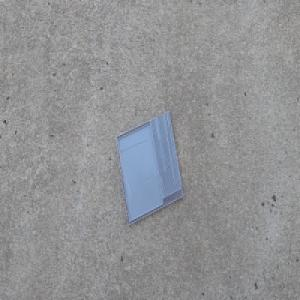PlasticPart: (114, 109, 184, 226)
